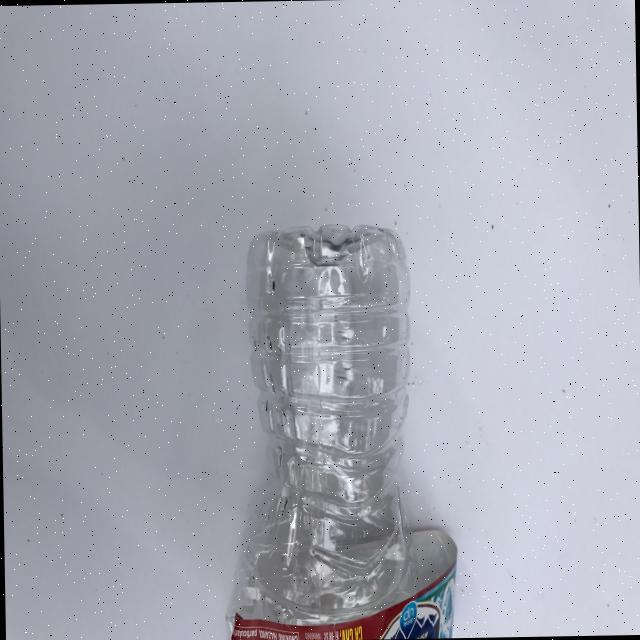plastic: (217, 219, 458, 640)
